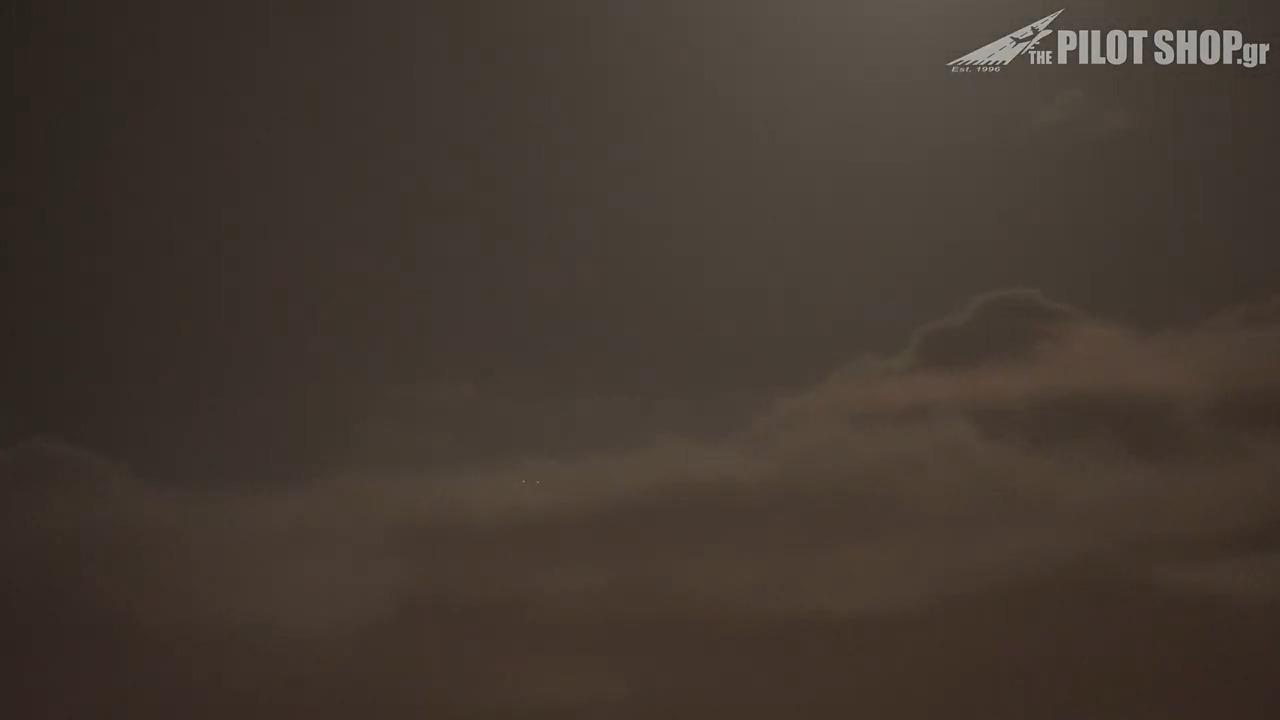Plane: (517, 473, 546, 490)
